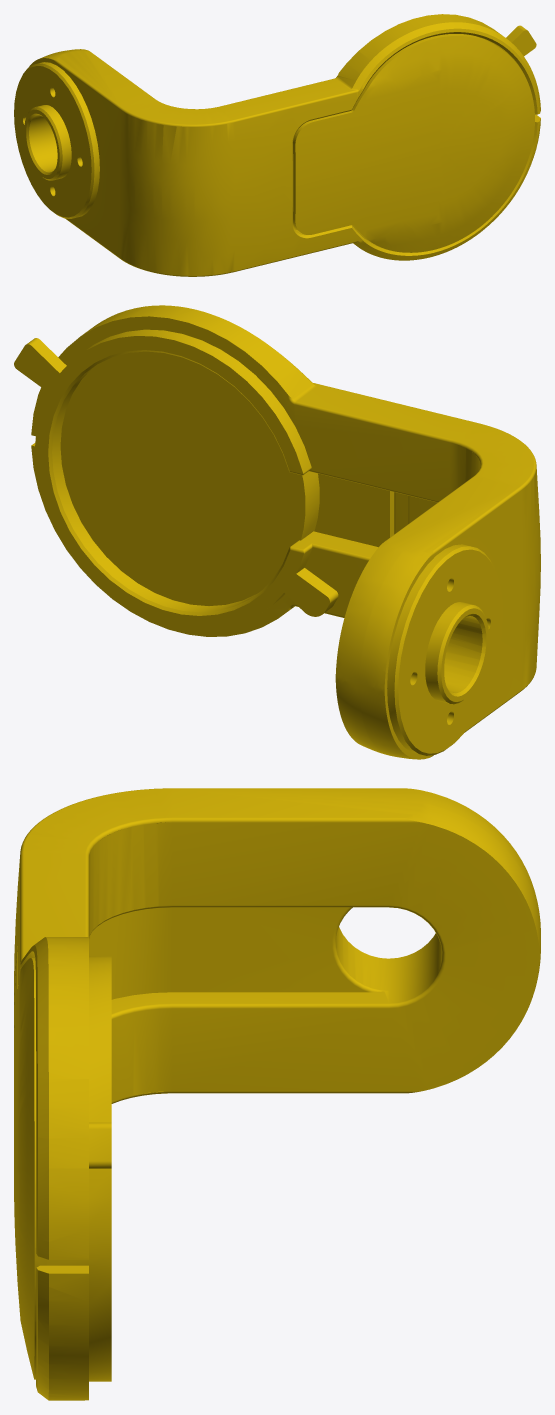
Rendered from armr7.glb.
The picture shows the model from 3 angles, top to bottom: view 1: azimuth 30°, elevation 25°; view 2: azimuth 150°, elevation 25°; view 3: azimuth 270°, elevation 25°; orthographic projection. The views are drawn at different scales.
Visible parts, largest first — view 1: right_j7; view 2: right_j7; view 3: right_j7.
Part boxes in pixels (x1=…): right_j7: x1=14, y1=14, x2=540, y2=276; right_j7: x1=14, y1=305, x2=540, y2=759; right_j7: x1=14, y1=788, x2=540, y2=1400.
Size of the model in its own units: 0.1133 by 0.061 by 0.0694.
